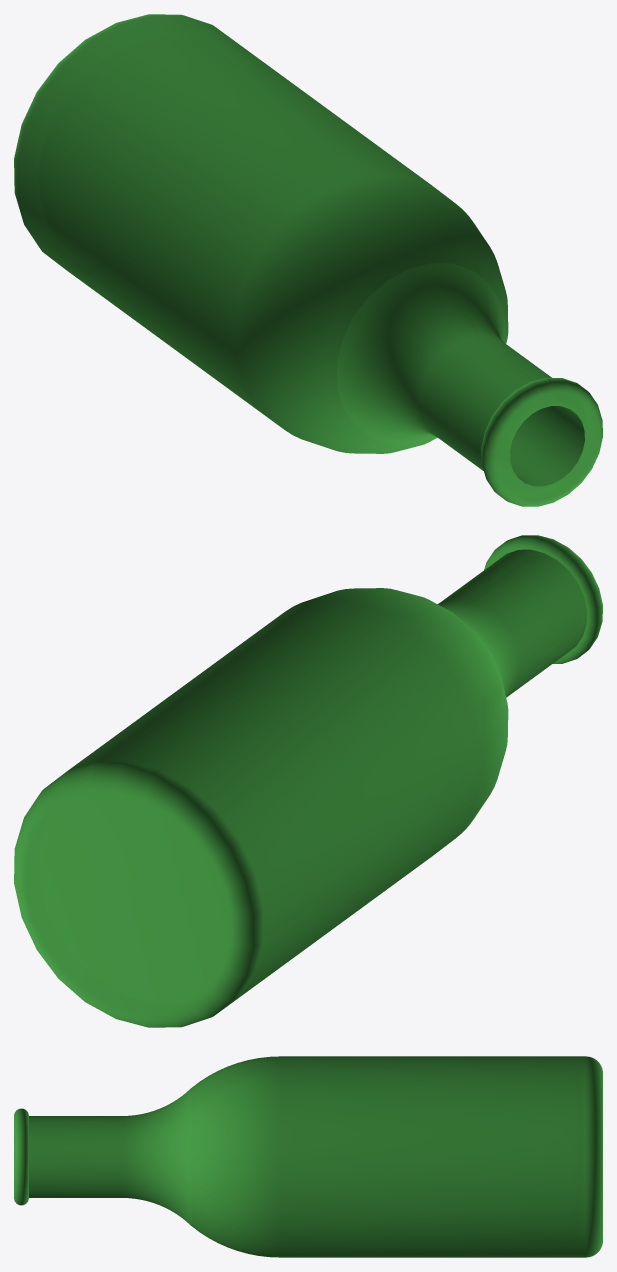
Rendered from model_align.obj.
3 views of the same model, one above another, from view 1: azimuth 30°, elevation 25°; view 2: azimuth 150°, elevation 25°; view 3: azimuth 270°, elevation 25° (orthographic). The views are drawn at different scales.
Parts seen in each view (by area): view 1: mesh1_mesh1-geometry; view 2: mesh1_mesh1-geometry; view 3: mesh1_mesh1-geometry.
Part boxes in pixels (x1,y1,x2,y2): mesh1_mesh1-geometry: [14, 14, 602, 506]; mesh1_mesh1-geometry: [14, 535, 602, 1027]; mesh1_mesh1-geometry: [14, 1056, 602, 1257].
Bounding box in the file's own units: 0.0929 × 0.0929 × 0.2739.
